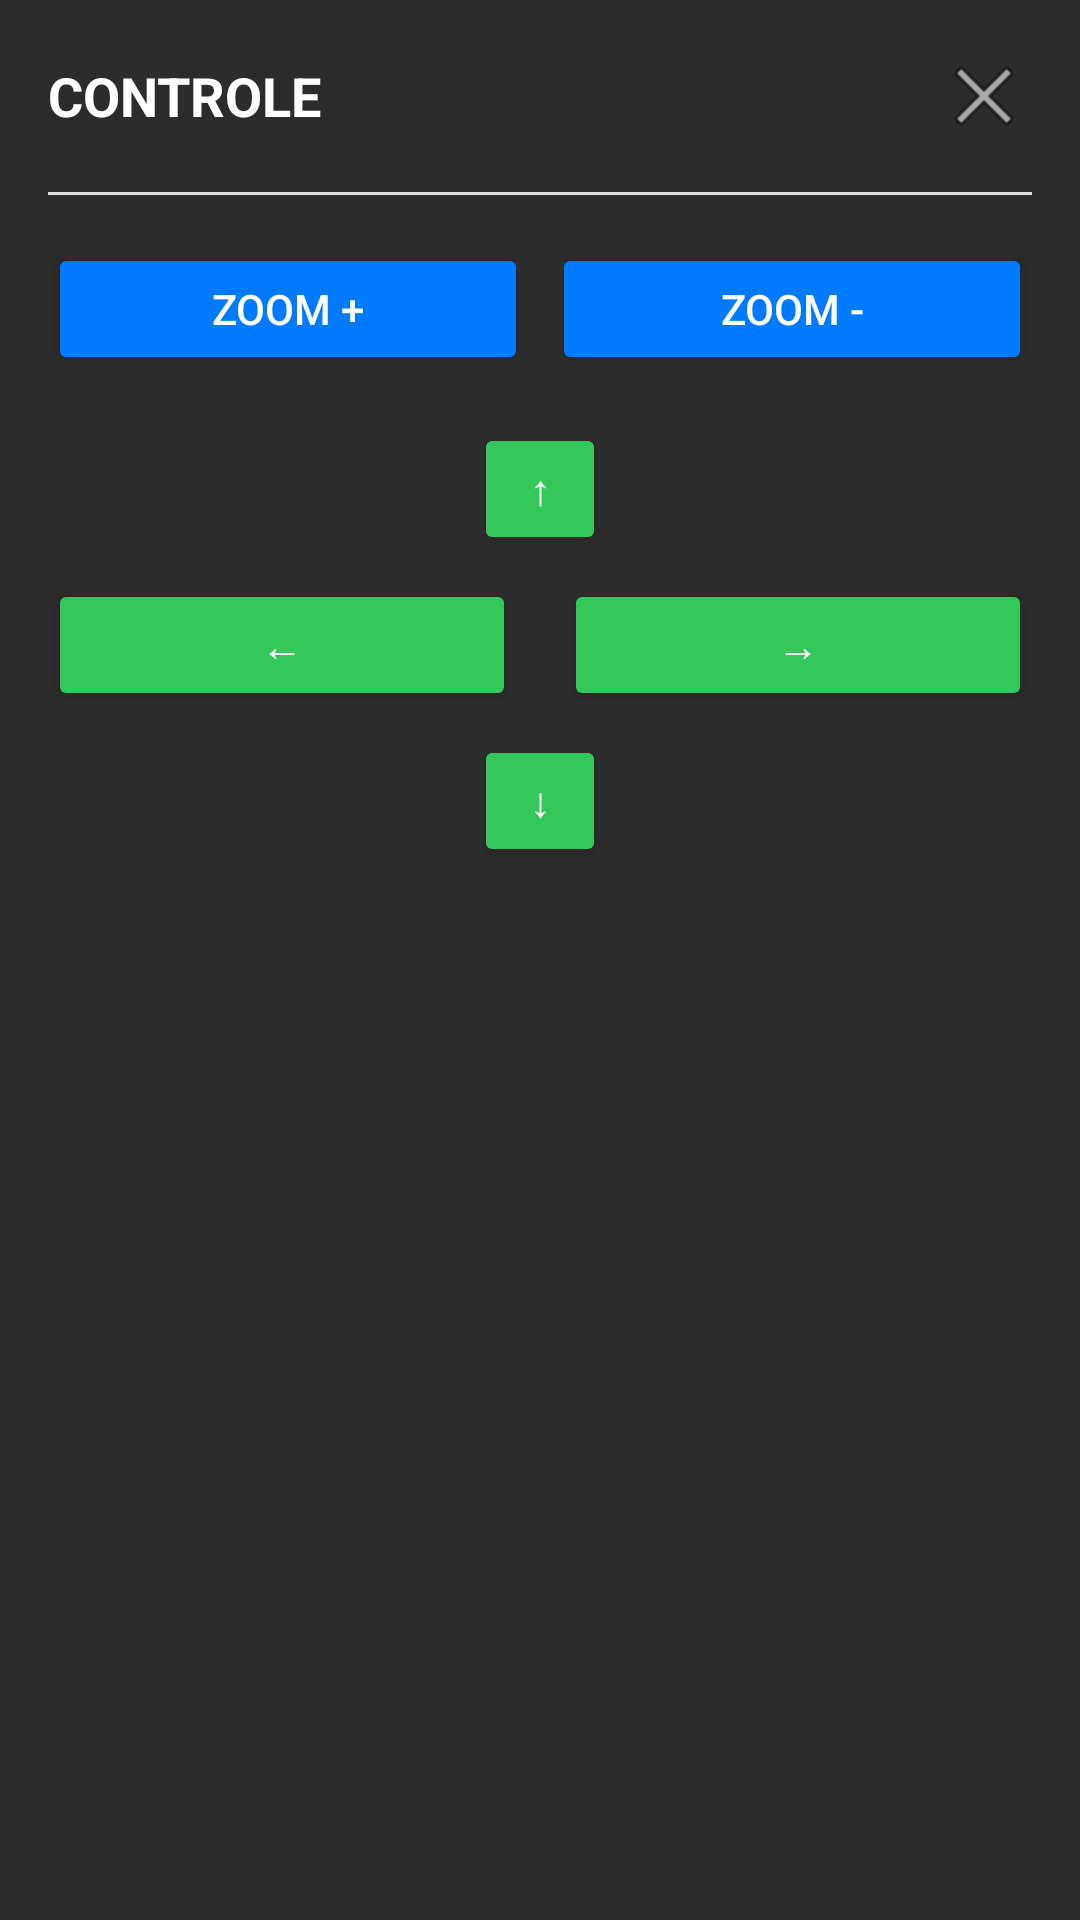

Icons on this 1080×1920 Android screen, each with the point to tap as [x,y]:
Sair: [984,96]
